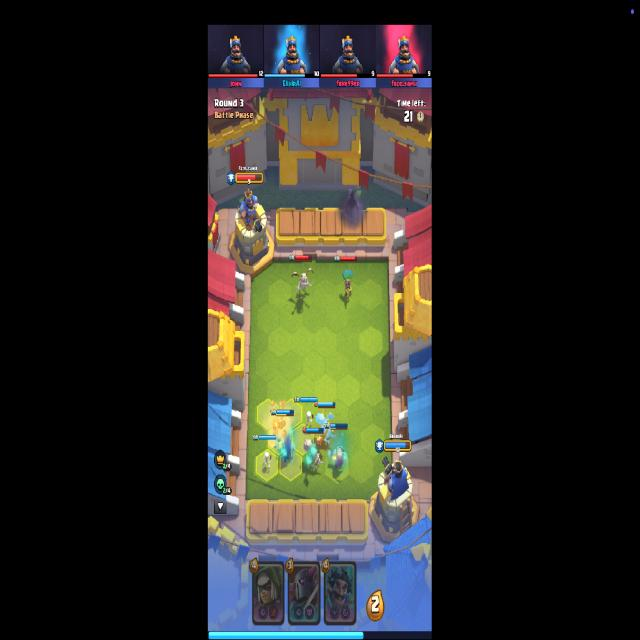card_bandit: (251, 560, 285, 625)
card_e_wiz: (323, 560, 357, 626)
card_pekka: (287, 560, 321, 626)
musketeer: (330, 446, 344, 470)
skeleton: (262, 452, 274, 471), (305, 411, 314, 429)
skeleton_dragon: (302, 437, 325, 472), (315, 413, 336, 445)
witch: (281, 430, 294, 464)
